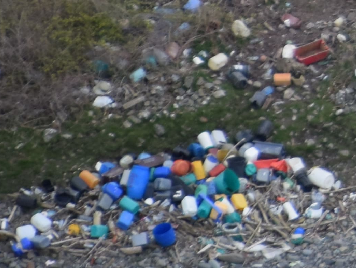together_barrel: (3, 128, 340, 260), (87, 1, 334, 112)
